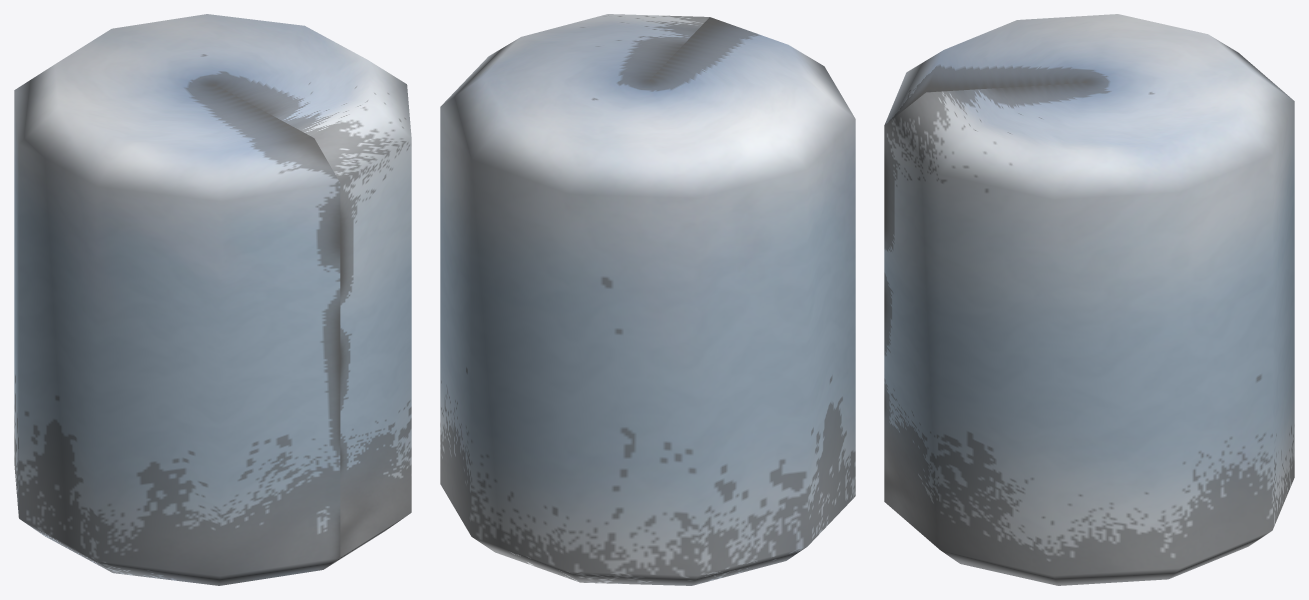
File: Water_Tank.fbx
The picture shows the model from 3 angles, left to right: view 1: azimuth 30°, elevation 25°; view 2: azimuth 150°, elevation 25°; view 3: azimuth 270°, elevation 25°; orthographic projection.
Parts seen in each view (by area): view 1: polySurface50; view 2: polySurface50; view 3: polySurface50.
Boxes of the visible parts, x1=… form: polySurface50: x1=14, y1=14, x2=411, y2=585; polySurface50: x1=440, y1=14, x2=855, y2=585; polySurface50: x1=884, y1=14, x2=1294, y2=585.
Size of the model in its own units: 32.88 by 38.05 by 33.06.
